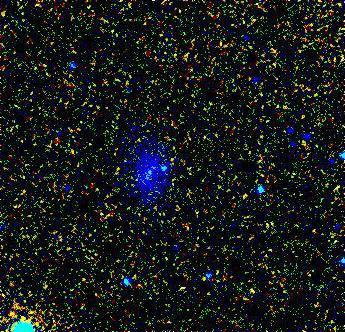star: (152, 154, 182, 184)
